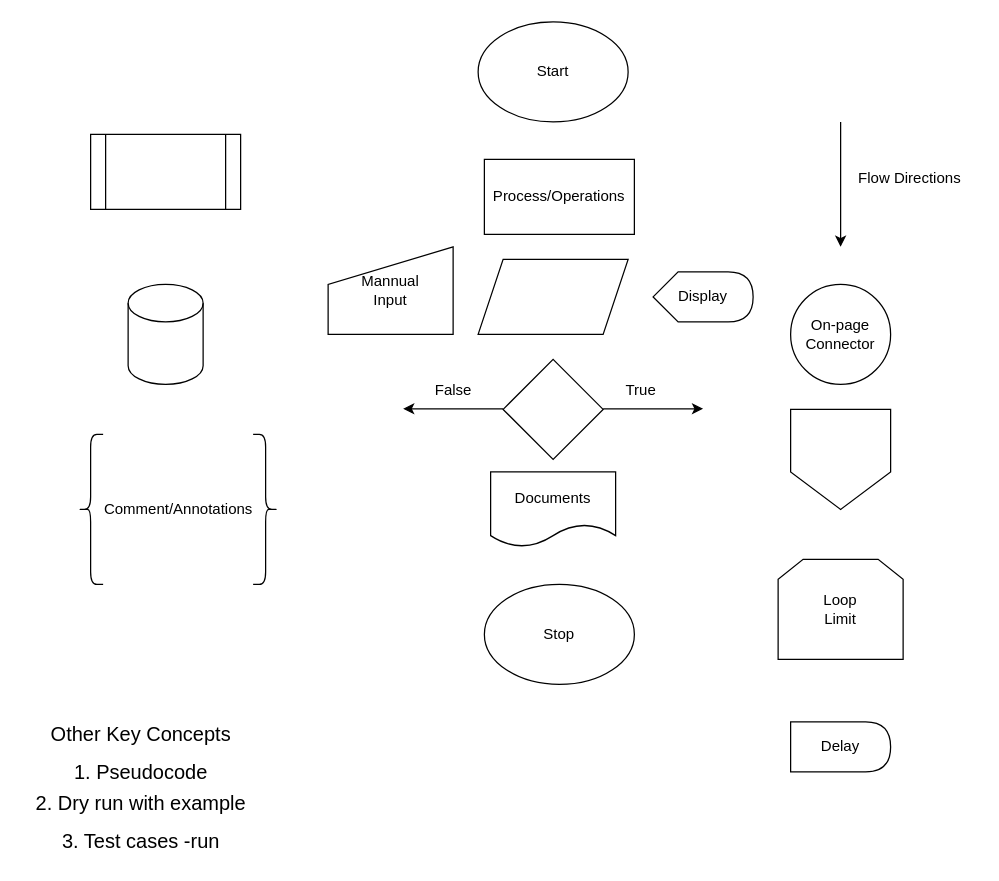
Some shapes in this 999 by 881 pixel diagram are drawn without their labels. The centre of each missing label's shape, as x and y in pixels:
Conditions: the point at 552,408
Database: the point at 165,333
Input/output: the point at 552,296
Off-page Connector: the point at 840,458
Predefined Process: the point at 165,171
